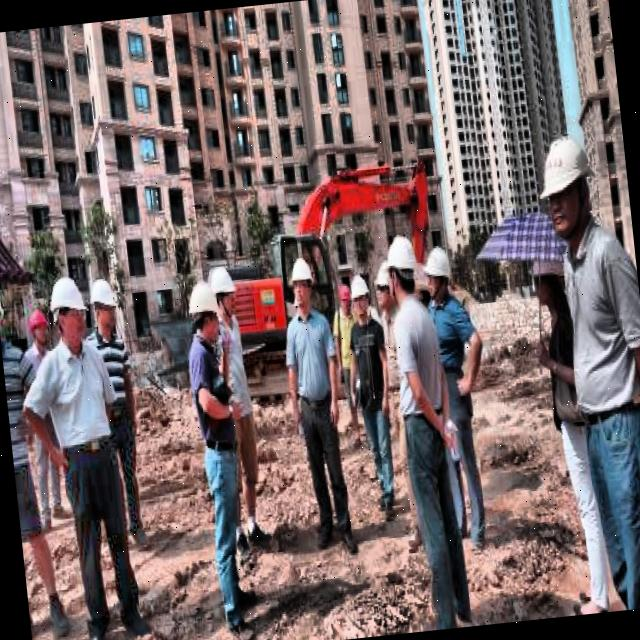helmet: (528, 124, 600, 243), (46, 272, 90, 348), (418, 242, 459, 305), (382, 238, 419, 302), (186, 277, 220, 346), (86, 275, 122, 340), (286, 252, 321, 316), (377, 252, 408, 312), (346, 265, 374, 323), (24, 304, 54, 357), (331, 278, 354, 318)
